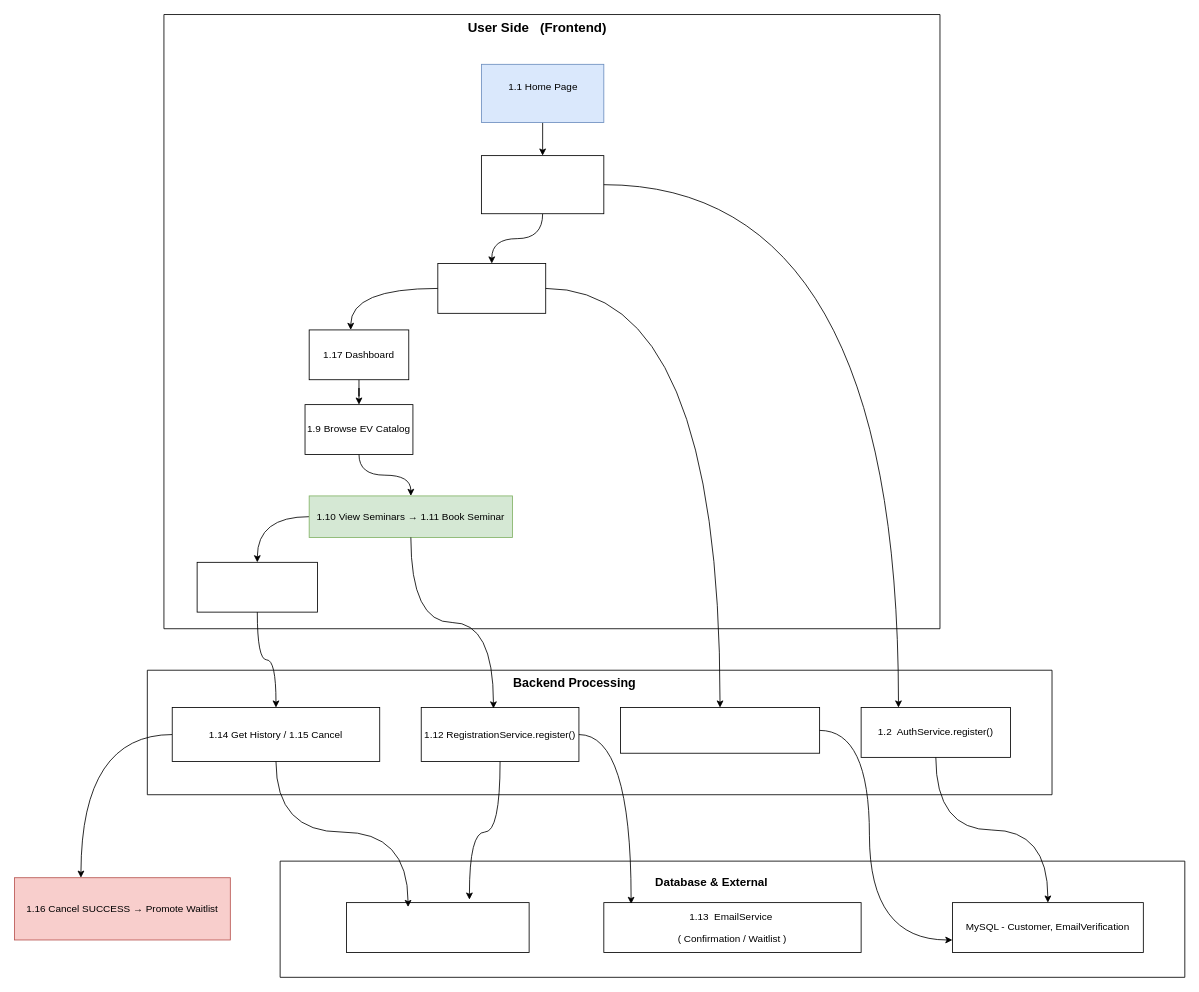
Some shapes in this 1199 by 992 pixel diagram are drawn without their labels. Each missing label, with the box of its shape:
1.1 Register / 1.6 Login: (481, 155, 604, 214)
1.14 My Registration: (196, 561, 317, 612)
1.4 Email Verification: (437, 263, 546, 313)
1.5 AuthService.verifyEmail() + JWT: (620, 707, 820, 753)
MySQL - Seminar, Registration: (346, 902, 529, 952)
